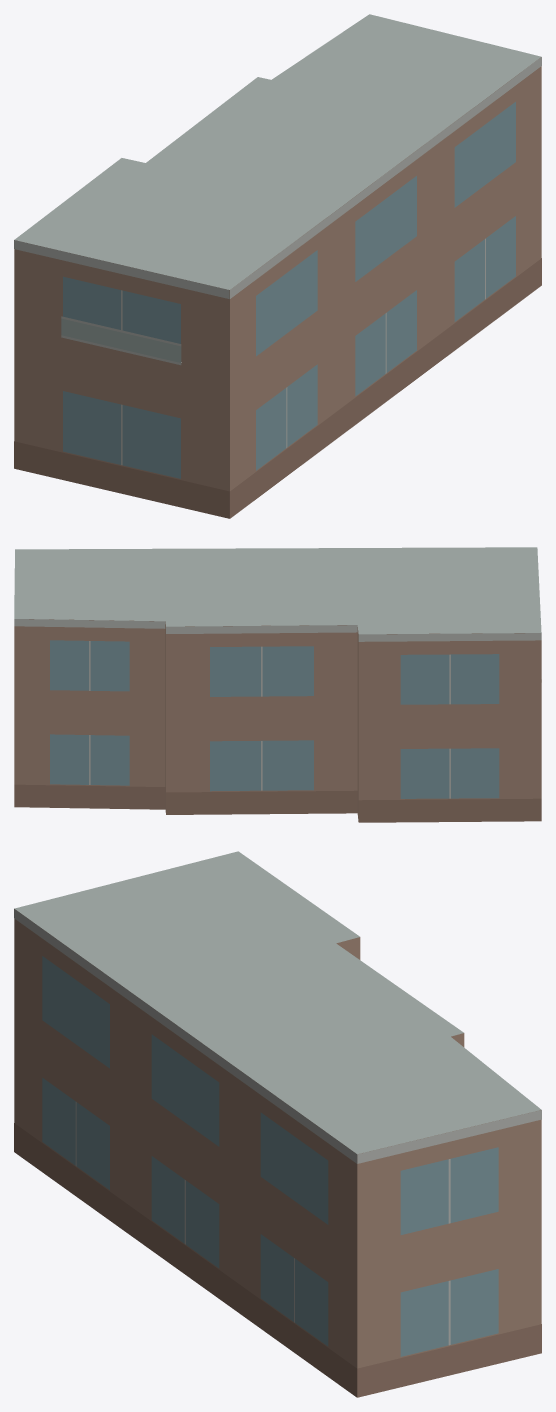
The model's file is survey-upis-32673805.glb.
3 renders of one model, top to bottom at view 1: azimuth 30°, elevation 25°; view 2: azimuth 150°, elevation 25°; view 3: azimuth 270°, elevation 25°, orthographic. The views are drawn at different scales.
Visible parts, largest first — view 1: survey-upis-32673805.tmp; view 2: survey-upis-32673805.tmp; view 3: survey-upis-32673805.tmp.
Boxes of the visible parts, box(x1,y1,x2,y2) form: survey-upis-32673805.tmp: box(14, 14, 541, 518); survey-upis-32673805.tmp: box(14, 547, 541, 822); survey-upis-32673805.tmp: box(14, 851, 541, 1397).
Bounding box in the file's own units: 16.3 × 6.1 × 11.99.
